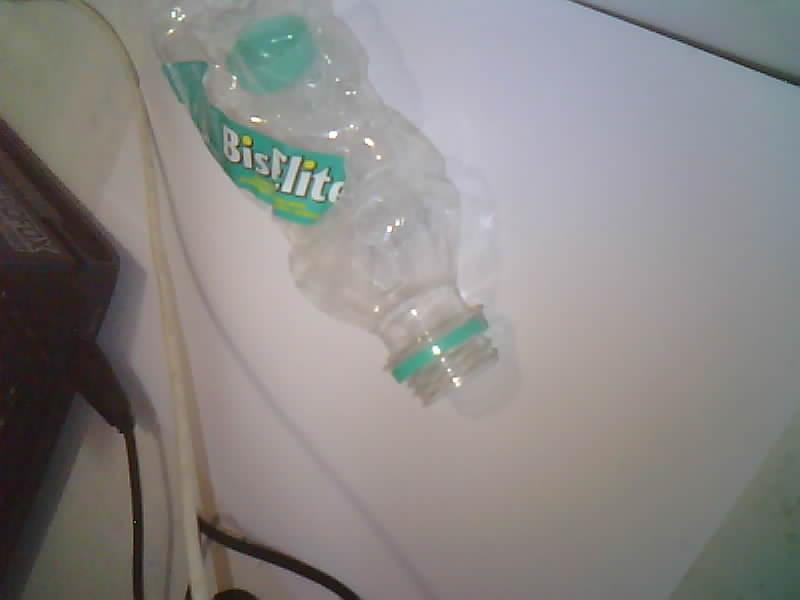non-biodegradable: (151, 0, 496, 402)
